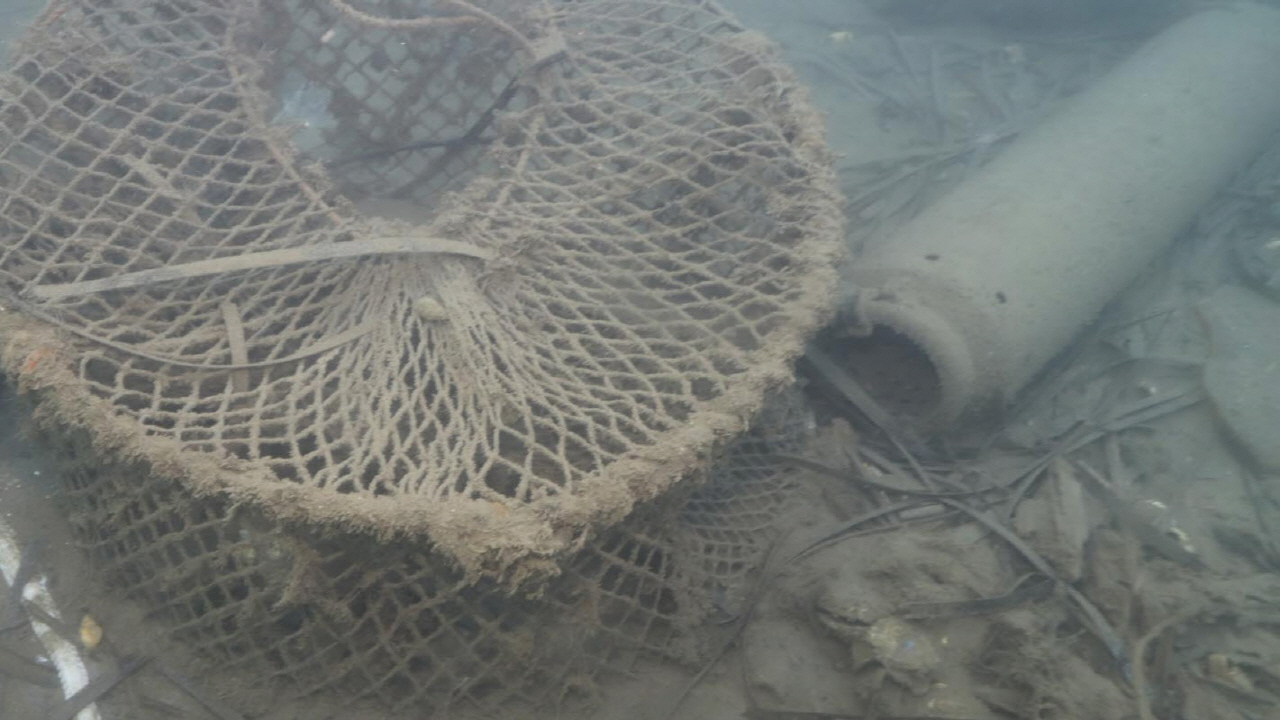circular fish trap: (0, 0, 842, 720)
eel fish trap: (839, 1, 1280, 435)
